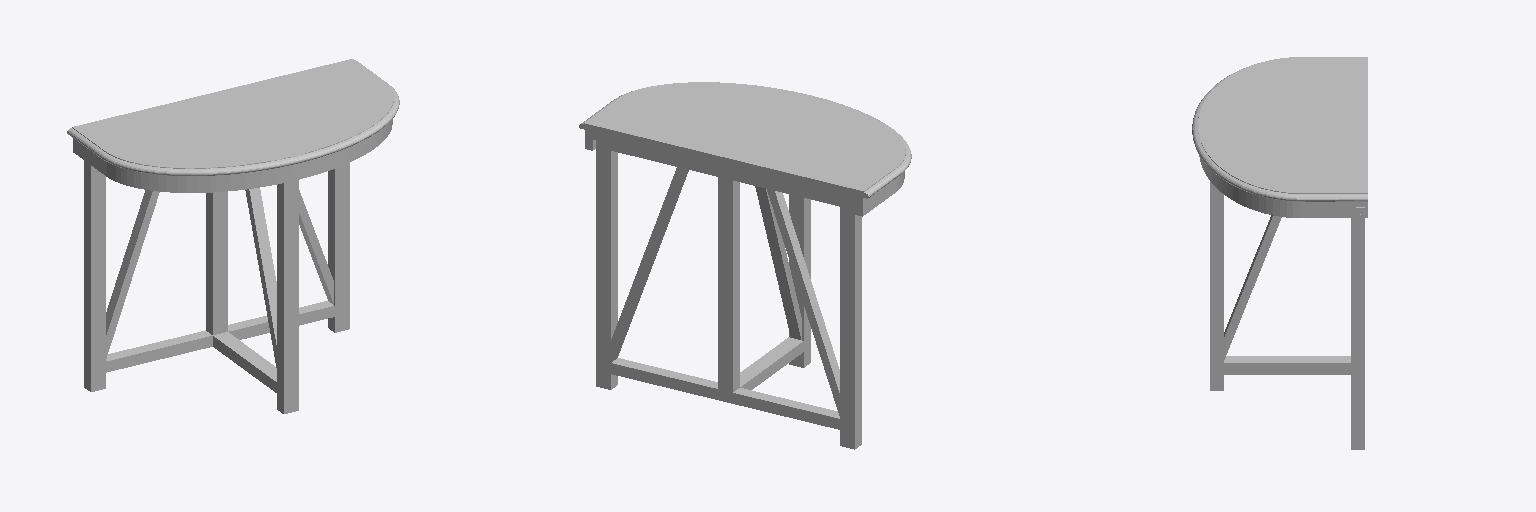
Rendered from W13 - A15500 - Sketchfab - mesh.obj.
3 renders of one model, left to right at view 1: azimuth 30°, elevation 25°; view 2: azimuth 150°, elevation 25°; view 3: azimuth 270°, elevation 25°, orthographic.
Parts seen in each view (by area): view 1: A155.wood, A155.cement; view 2: A155.wood, A155.cement; view 3: A155.cement, A155.wood.
Boxes of the visible parts, box(x1,y1,x2,y2) form: A155.wood: box(73, 119, 392, 413); A155.cement: box(67, 59, 399, 175); A155.wood: box(585, 130, 904, 449); A155.cement: box(579, 82, 911, 198); A155.cement: box(1192, 57, 1367, 201); A155.wood: box(1199, 156, 1367, 449).
Bounding box in the file's own units: 95 × 82 × 49.99.